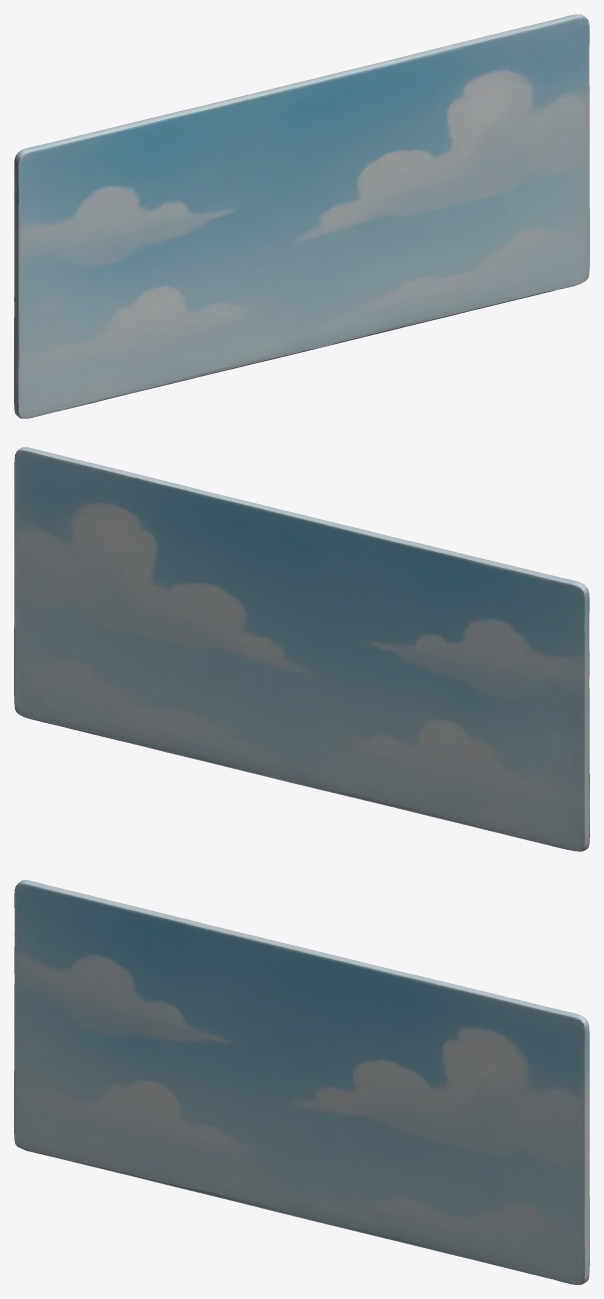
3 renders of one model, top to bottom at view 1: azimuth 30°, elevation 25°; view 2: azimuth 150°, elevation 25°; view 3: azimuth 330°, elevation 25°, orthographic.
Visible parts, largest first — view 1: world; view 2: world; view 3: world.
Part boxes in pixels (left/top/right/bottom): world: left=14, top=14, right=589, bottom=418; world: left=14, top=447, right=589, bottom=851; world: left=14, top=880, right=589, bottom=1284.
Bounding box in the file's own units: 1 × 0.4501 × 0.0153.
Materials: 1 (1 with a texture image).
